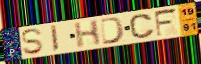C: (128, 13, 157, 40)
D: (99, 16, 126, 46)
F: (153, 7, 179, 39)
H: (73, 18, 102, 50)
I: (49, 24, 60, 53)
S: (20, 27, 46, 56)
